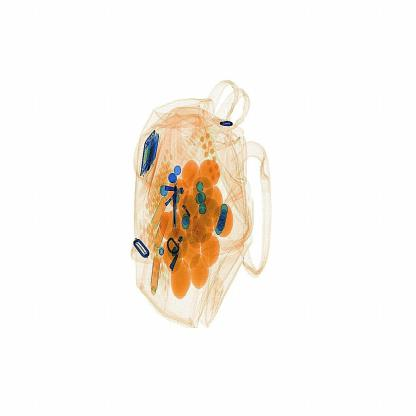knife: (167, 176, 190, 230)
